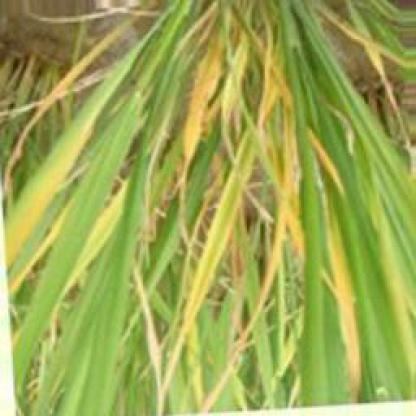Tungro: (155, 22, 295, 375), (11, 55, 138, 266), (48, 167, 151, 318), (173, 4, 235, 192), (320, 217, 372, 401), (344, 3, 408, 119), (300, 113, 352, 201), (206, 372, 240, 411)
